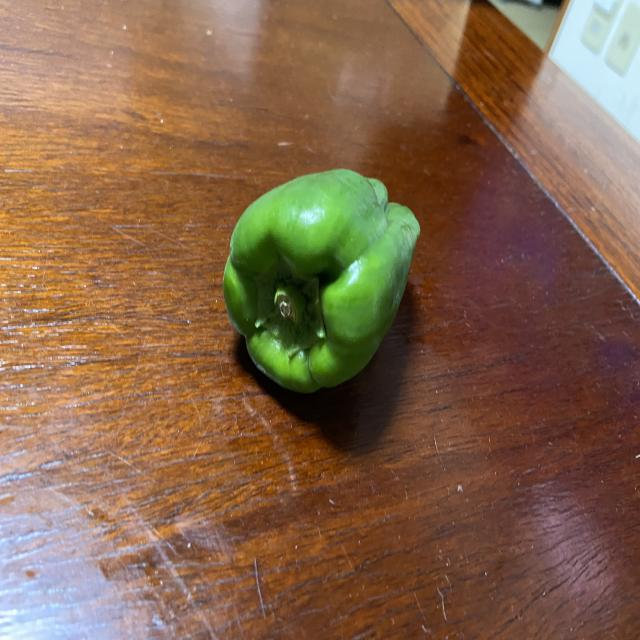green_pepper: (222, 167, 423, 399)
